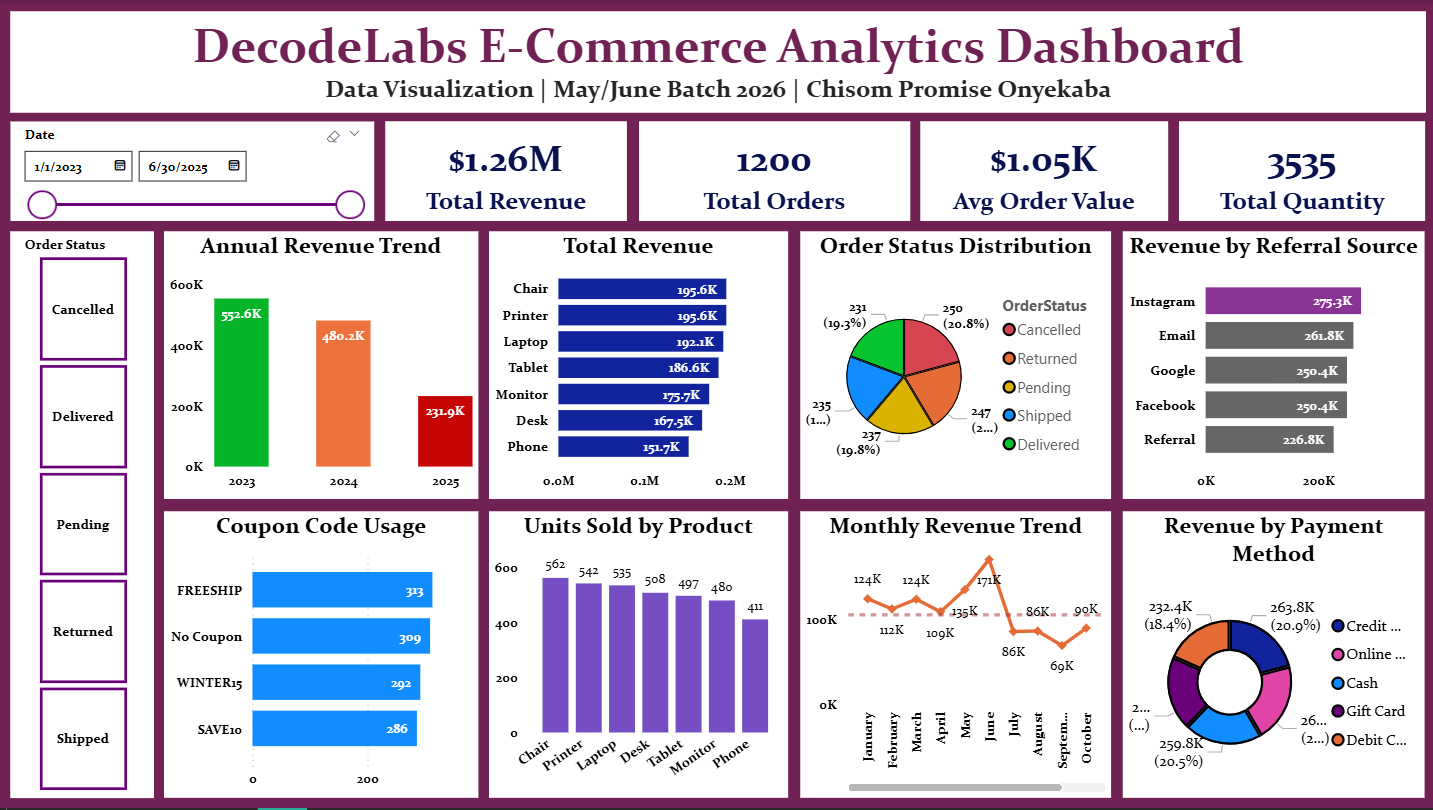

Layout of this report page (visuals, bound fields, positions):
{"tool":"powerbi","page":{"name":"Data Visualization Dashboard","canvas":[1280,720],"ordinal":0},"visuals":[{"type":"textbox","box":[9.6,9.6,1261.1,90.6],"z":0},{"type":"card","fields":{"Values":["Sheet1.Total Revenue"]},"box":[344.4,108.4,215.4,89.2],"z":1000},{"type":"card","fields":{"Values":["Sheet1.Total Orders"]},"box":[569.5,108.4,241.5,89.2],"z":2000},{"type":"card","fields":{"Values":["Sheet1.Avg Order Value"]},"box":[820.6,108.4,220.9,89.2],"z":3000},{"type":"card","fields":{"Values":["Sheet1.Total Quantity"]},"box":[1051.1,108.4,219.6,89.2],"z":4000},{"type":"clusteredBarChart","title":"Total Revenue","fields":{"Category":["Sheet1.Product"],"Y":["Sheet1.Total Revenue"]},"box":[436.4,205.8,266.2,238.8],"z":5000},{"type":"pieChart","title":"Order Status Distribution","fields":{"Category":["Sheet1.OrderStatus"],"Y":["Sheet1.Total Orders"]},"box":[713.6,205.8,277.2,238.8],"z":6000},{"type":"lineChart","title":"Monthly Revenue Trend","fields":{"Category":["Sheet1.Date.Variation.Date Hierarchy.Month"],"Y":["Sheet1.Total Revenue"]},"box":[713.6,455.6,277.2,255.2],"z":7000},{"type":"clusteredBarChart","title":"Revenue by Referral Source","fields":{"Category":["Sheet1.ReferralSource"],"Y":["Sheet1.Total Revenue"]},"box":[1000.3,205.8,269,238.8],"z":8000},{"type":"donutChart","title":"Revenue by Payment Method","fields":{"Category":["Sheet1.PaymentMethod"],"Y":["Sheet1.Total Revenue"]},"box":[1000.3,455.6,269,255.2],"z":9000},{"type":"clusteredColumnChart","title":"Units Sold by Product","fields":{"Y":["Sheet1.Total Quantity"],"Category":["Sheet1.Product"]},"box":[436.4,455.6,266.2,255.2],"z":10000},{"type":"clusteredColumnChart","title":"Annual Revenue Trend","fields":{"Category":["Sheet1.Date.Variation.Date Hierarchy.Year"],"Y":["Sheet1.Total Revenue"]},"box":[146.8,205.8,279.9,238.8],"z":11000},{"type":"clusteredBarChart","title":"Coupon Code Usage","fields":{"Category":["Sheet1.CouponCode"],"Y":["Sheet1.Total Orders"]},"box":[146.8,455.6,279.9,255.2],"z":12000},{"type":"slicer","fields":{"Values":["Sheet1.OrderStatus"]},"box":[9.6,205.8,127.6,505],"z":13000},{"type":"slicer","fields":{"Values":["Sheet1.Date"]},"box":[9.6,108.4,323.8,89.2],"z":14000}]}

Visuals, with their boxes in screenshot pixels (x1, y1, x2, y2), scaled from the page's 1280x720 canvas onto the 1433x810 screenshot:
textbox: bbox=[11, 11, 1423, 113]
card - Sheet1.Total Revenue: bbox=[386, 122, 627, 222]
card - Sheet1.Total Orders: bbox=[638, 122, 908, 222]
card - Sheet1.Avg Order Value: bbox=[919, 122, 1166, 222]
card - Sheet1.Total Quantity: bbox=[1177, 122, 1423, 222]
"Total Revenue" clusteredBarChart: bbox=[489, 232, 787, 500]
"Order Status Distribution" pieChart: bbox=[799, 232, 1109, 500]
"Monthly Revenue Trend" lineChart: bbox=[799, 513, 1109, 800]
"Revenue by Referral Source" clusteredBarChart: bbox=[1120, 232, 1421, 500]
"Revenue by Payment Method" donutChart: bbox=[1120, 513, 1421, 800]
"Units Sold by Product" clusteredColumnChart: bbox=[489, 513, 787, 800]
"Annual Revenue Trend" clusteredColumnChart: bbox=[164, 232, 478, 500]
"Coupon Code Usage" clusteredBarChart: bbox=[164, 513, 478, 800]
slicer - Sheet1.OrderStatus: bbox=[11, 232, 154, 800]
slicer - Sheet1.Date: bbox=[11, 122, 373, 222]
